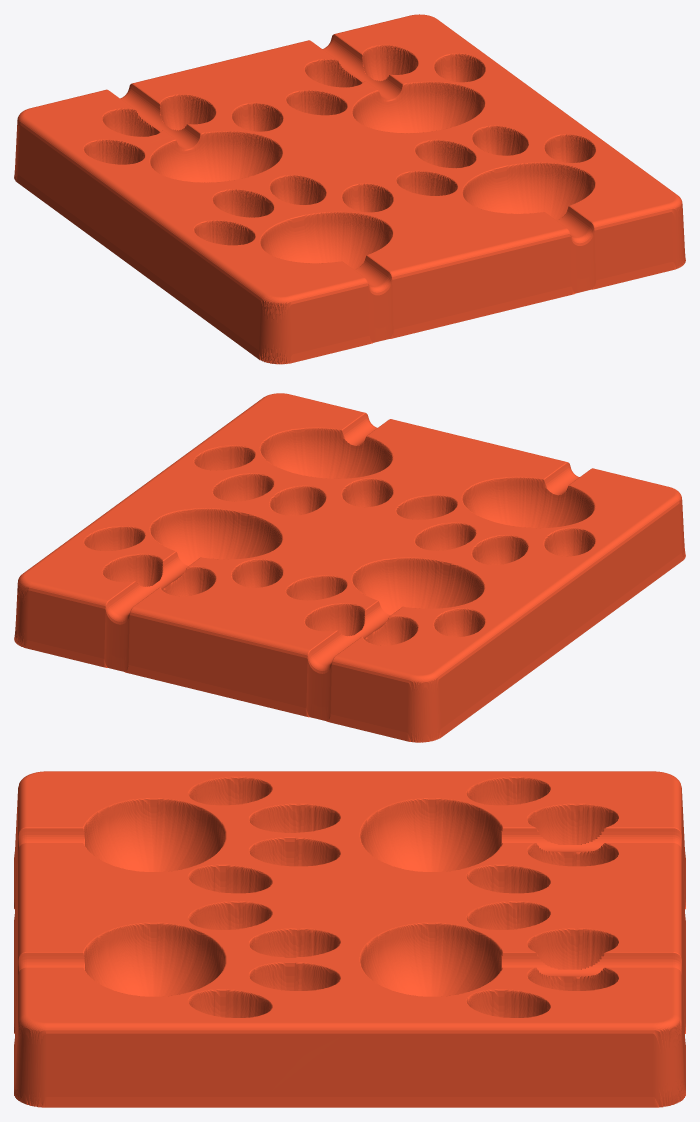
Rendered from mold.glb.
3 views of the same model, one above another, from view 1: azimuth 30°, elevation 25°; view 2: azimuth 150°, elevation 25°; view 3: azimuth 270°, elevation 25° (orthographic). The views are drawn at different scales.
Parts seen in each view (by area): view 1: geometry_0; view 2: geometry_0; view 3: geometry_0.
Boxes of the visible parts, box(x1,y1,x2,y2) form: geometry_0: box(14, 14, 685, 364); geometry_0: box(14, 393, 685, 742); geometry_0: box(14, 771, 685, 1107).
Bounding box in the file's own units: 0.1726 × 0.0245 × 0.1876.
